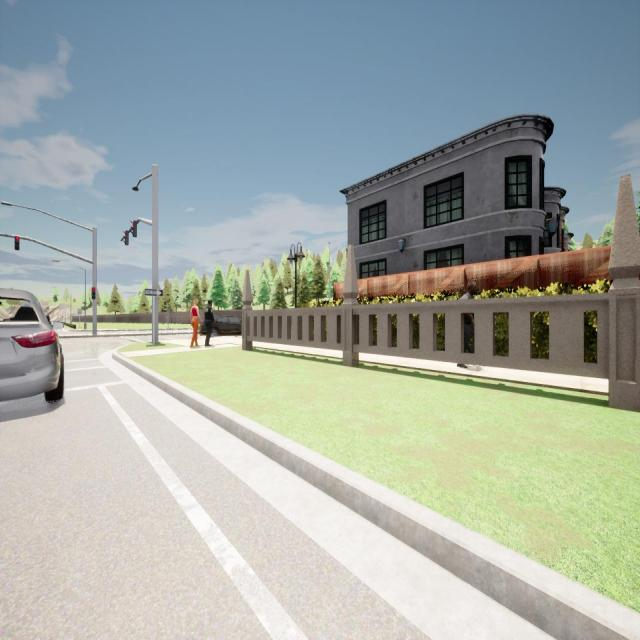Pedestrian: (455, 280, 477, 369), (203, 299, 214, 347), (190, 298, 200, 349)
Traffic_Signs: (144, 289, 163, 296), (77, 309, 82, 314)
Vehicle: (0, 288, 64, 403), (201, 314, 243, 338)
traffic_light: (130, 220, 137, 237), (122, 230, 129, 245), (14, 236, 20, 250), (92, 287, 95, 299)
